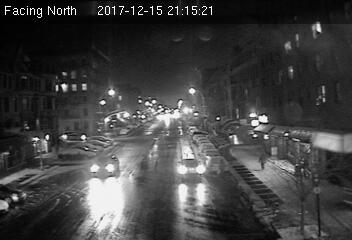car: (177, 153, 204, 180), (90, 154, 120, 176), (207, 156, 228, 172)
pedestrian: (257, 152, 268, 171)
